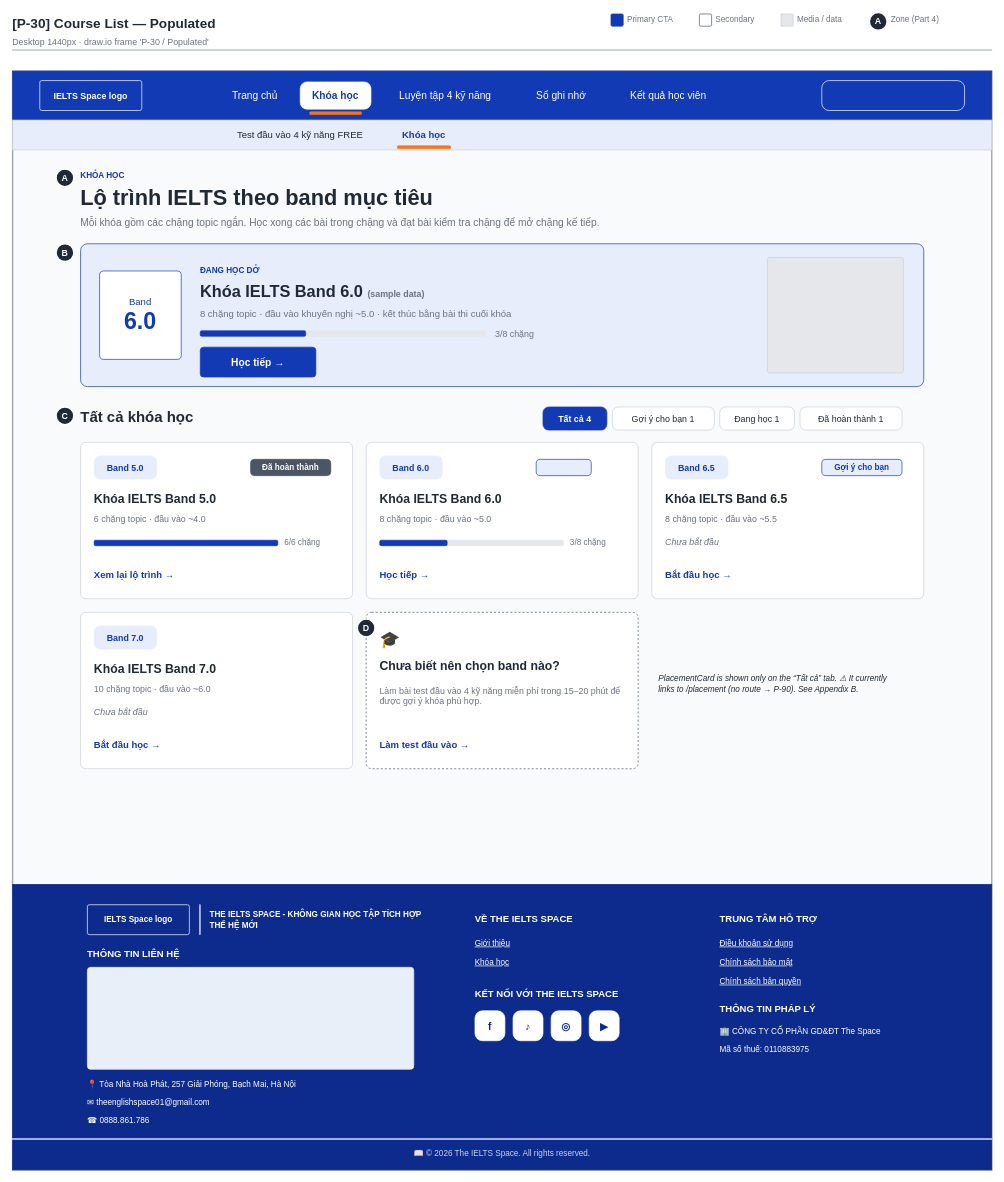
Some shapes in this 1004 by 1182 pixel diagram are drawn without their labels. Here are the shapes that lost their labels. From the top down, the centre of each, then its label:
At point 893,95: "◯ Học viên · 30 Points ▾".
At point 835,315: "▨ Mascot".
At point 563,467: "Đang học".
At point 250,1018: "📍 The IELTS Space Mở trong Maps ↗".
